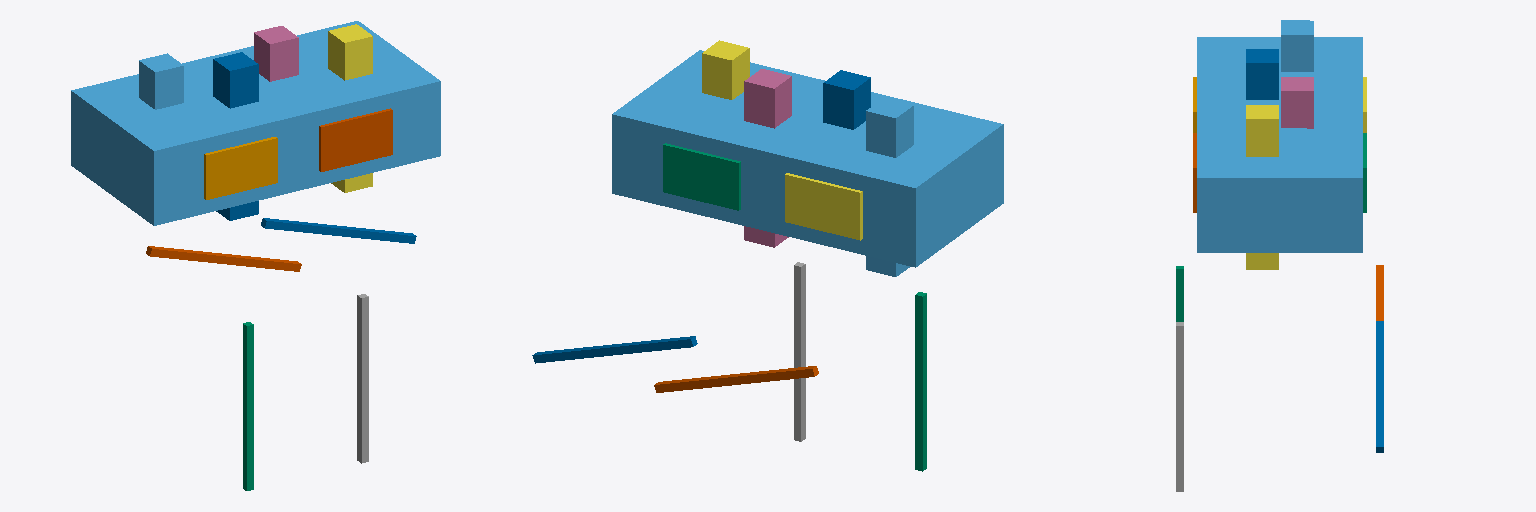
robot.urdf — robot:
<?xml version="1.0"?>
<robot xmlns:xacro="http://www.ros.org/wiki/xacro" name="robot">
<link name="world"/>

  <joint name="fixed" type="fixed">
    <parent link="world"/>
    <child link="base_link"/>
  </joint>
  <link name="base_link">
    <visual>
      <geometry>
        <box size="0.254 0.127 0.0635"/>
      </geometry>
    </visual>
    <!-- <inertial>
      <origin xyz="0.000 0.000 0.000" rpy ="0.000 0.000 0.000"/>
      <mass value="2.000"/>
      <inertia
        ixx="0.03562" ixy="0.00000" ixz="0.00000"
        iyy="0.04262" iyz="0.00000"
        izz="0.04508"/>
    </inertial> -->
    <!-- <collision>
      <origin xyz="0.000 0.000 0.015" rpy ="0.000 0.000 0.000"/>
      <geometry>
        <box size="0.127 0.254 0.0635"/>
      </geometry>
    </collision> -->
  </link>

  <!-- <link name="lidar_link">
    <visual>
      <geometry>
        <box size="0.080 0.060 0.050"/>
      </geometry>
    </visual>
    <inertial>
      <origin xyz="0.000 0.000 0.000" rpy ="0.000 0.000 0.000"/>
      <mass value="0.050"/>
      <inertia
        ixx="0.00092" ixy="0.00000" ixz="0.00001"
        iyy="0.00094" iyz="0.00000"
        izz="0.00093"/>
    </inertial>
    <collision>
      <origin xyz="0.010 0.000 -0.015" rpy ="0.000 0.000 0.000"/>
      <geometry>
        <box size="0.080 0.060 0.050"/>
      </geometry>
    </collision>
  </link> -->

<!-- FL -->
  <joint name="hip_fl" type="revolute">
  <limit upper="0.4" effort="100" velocity="10" lower="-0.2"/>
  <origin xyz ="0.0508 0.0508 0" rpy="0 0 0"/>
    <parent link="base_link"/>
    <child link = "hipbone_fl"/>
  </joint>

  <link name="hipbone_fl">
    <visual>
    <origin xyz=" 0.0 0.0 0" rpy = "0 0 0"/>

      <geometry>  

        <box size = "0.0635 0.03175 0.0381"/>
      </geometry>
    </visual>
  </link>

  <joint name="shoulder_fl" type="revolute">
          <limit upper="0.5" effort="100" velocity="10" lower="-0.1"/>

  <origin xyz="0 0 0" rpy = "0 0 0"/>
  <axis xyz="0 1 0"/>
  <parent link="hipbone_fl"/>
  <child link="femur_fl"/>
  </joint>

  <link name="femur_fl">
  <visual>
      <origin xyz=" 0.0254 -0.064 0" rpy="0 0 0"/>
    <geometry>  
      <box size = "0.0254 0.0254 0.127"/>
    </geometry>
  </visual>
  </link>

  <joint name="knee_fl" type="revolute">
    <limit upper="-0.5" effort="100" velocity="10" lower="-2"/>

    <origin xyz="0 0 -0.127" rpy = "0 0 1.57"/>
    <parent link="femur_fl"/>
    <child link="tibia_fl"/>
  </joint>

  <link name="tibia_fl">
    <visual>
    <origin xyz="0.0254 0.0 -0.06985" rpy="0 0 0"/>
      <geometry>
        <box size = "0.00635 0.00635 0.1397"/>
      </geometry>
    </visual>
  </link>


<!-- FR -->
  <joint name="hip_fr" type="revolute">
        <limit upper="0.4" effort="100" velocity="10" lower="-0.2"/>

  <origin xyz ="0.0508 -0.0508 0" rpy="0 0 3.14"/>
    <parent link="base_link"/>
    <child link = "hipbone_fr"/>
  </joint>

  <link name="hipbone_fr">
    <visual>
    <origin xyz=" 0.0 0.0 0" rpy = "0 0 0"/>

      <geometry>  

        <box size = "0.0635 0.03175 0.0381"/>
      </geometry>
    </visual>
  </link>

  <joint name="shoulder_fr" type="revolute">
            <limit upper="0.1" effort="100" velocity="10" lower="-0.5"/>

  <origin xyz="0 0 0" rpy = "0 0 0"/>
  <axis xyz="0 1 0"/>
  <parent link="hipbone_fr"/>
  <child link="femur_fr"/>
  </joint>

  <link name="femur_fr">
  <visual>
      <origin xyz=" 0.0254 -0.064 0" rpy="0 0 0"/>
    <geometry>  
      <box size = "0.0254 0.0254 0.127"/>
    </geometry>
  </visual>
  </link>

  <joint name="knee_fr" type="revolute">
      <limit upper="2" effort="100" velocity="10" lower="-0.5"/>

    <origin xyz="0 0 -0.127" rpy = "0 0 1.57"/>
    <parent link="femur_fr"/>
    <child link="tibia_fr"/>
  </joint>

  <link name="tibia_fr">
    <visual>
    <origin xyz="0.0254 0.0 -0.06985" rpy="0 0 0"/>
      <geometry>
        <box size = "0.00635 0.00635 0.1397"/>
      </geometry>
    </visual>
  </link>

<!-- BR -->
  <joint name="hip_br" type="revolute">
      <limit upper="0.4" effort="100" velocity="10" lower="-0.2"/>

  <origin xyz ="-0.0508 -0.0508 0" rpy="0 0 3.14"/>
    <parent link="base_link"/>
    <child link = "hipbone_br"/>
  </joint>

  <link name="hipbone_br">
    <visual>
    <origin xyz=" 0.0 0.0 0" rpy = "0 0 0"/>

      <geometry>  

        <box size = "0.0635 0.03175 0.0381"/>
      </geometry>
    </visual>
  </link>

  <joint name="shoulder_br" type="revolute">
            <limit upper="0.1" effort="100" velocity="10" lower="-0.5"/>

  <origin xyz="0 0 0" rpy = "0 0 0"/>
  <axis xyz="0 1 0"/>
  <parent link="hipbone_br"/>
  <child link="femur_br"/>
  </joint>

  <link name="femur_br">
  <visual>
      <origin xyz=" 0.0254 -0.064 0" rpy="0 0 0"/>
    <geometry>  
      <box size = "0.0254 0.0254 0.127"/>
    </geometry>
  </visual>
  </link>

  <joint name="knee_br" type="revolute">
      <limit upper="2" effort="100" velocity="10" lower="-0.5"/>

    <origin xyz="0 0 -0.127" rpy = "0 0 1.57"/>
    <parent link="femur_br"/>
    <child link="tibia_br"/>
  </joint>

  <link name="tibia_br">
    <visual>
    <origin xyz="0.0254 0.0 -0.06985" rpy="0 0 0"/>
      <geometry>
        <box size = "0.00635 0.00635 0.1397"/>
      </geometry>
    </visual>
  </link>

<!-- BL -->
  <joint name="hip_bl" type="revolute">]
    <limit upper="0.4" effort="100" velocity="10" lower="-0.2"/>

  <origin xyz ="-0.0508 0.0508 0" rpy="0 0 0"/>
    <parent link="base_link"/>
    <child link = "hipbone_bl"/>
  </joint>

  <link name="hipbone_bl">
    <visual>
    <origin xyz=" 0.0 0.0 0" rpy = "0 0 0"/>

      <geometry>  

        <box size = "0.0635 0.03175 0.0381"/>
      </geometry>
    </visual>
  </link>

  <joint name="shoulder_bl" type="revolute">
            <limit upper="0.5" effort="100" velocity="10" lower="-0.1"/>

  <origin xyz="0 0 0" rpy = "0 0 0"/>
  <axis xyz="0 1 0"/>
  <parent link="hipbone_bl"/>
  <child link="femur_bl"/>
  </joint>

  <link name="femur_bl">
  <visual>
      <origin xyz=" 0.0254 -0.064 0" rpy="0 0 0"/>
    <geometry>  
      <box size = "0.0254 0.0254 0.127"/>
    </geometry>
  </visual>
  </link>

  <joint name="knee_bl" type="revolute">
      <limit upper="-0.5" effort="100" velocity="10" lower="-2"/>

    <origin xyz="0 0 -0.127" rpy = "0 0 1.57"/>
    <parent link="femur_bl"/>
    <child link="tibia_bl"/>
  </joint>

  <link name="tibia_bl">
    <visual>
    <origin xyz="0.0254 0.0 -0.06985" rpy="0 0 0"/>
      <geometry>
        <box size = "0.00635 0.00635 0.1397"/>
      </geometry>
    </visual>
  </link>


</robot>

--- Render facts (derived) ---
The picture shows the robot from 3 angles, left to right: view 1: azimuth 30°, elevation 25°; view 2: azimuth 150°, elevation 25°; view 3: azimuth 270°, elevation 25°; orthographic projection.
Robot: robot — 14 links, 13 joints (12 revolute, 1 fixed); root link world; default pose: all joints at 0 but 2 set to mid-range because 0 is outside their limits (knee_fl = -1.25, knee_bl = -1.25).
Visible links, largest first — view 1: base_link, hipbone_fr, hipbone_br, femur_bl, femur_fl, femur_br, femur_fr, tibia_fr, tibia_br, tibia_fl, tibia_bl; view 2: base_link, hipbone_fl, hipbone_bl, femur_fr, femur_br, femur_bl, femur_fl, tibia_br, tibia_fr, tibia_bl, tibia_fl; view 3: base_link, femur_fl, femur_br, femur_fr, femur_bl, tibia_fr, tibia_fl.
Link boxes in pixels (left/top/right/bottom): base_link: left=71, top=21, right=440, bottom=225; hipbone_fr: left=319, top=108, right=392, bottom=171; hipbone_br: left=204, top=137, right=277, bottom=199; femur_bl: left=213, top=52, right=258, bottom=220; femur_fl: left=328, top=24, right=372, bottom=192; femur_br: left=139, top=53, right=183, bottom=109; femur_fr: left=254, top=26, right=298, bottom=81; tibia_fr: left=357, top=294, right=368, bottom=463; tibia_br: left=243, top=322, right=253, bottom=490; tibia_fl: left=261, top=218, right=416, bottom=243; tibia_bl: left=146, top=246, right=301, bottom=271; base_link: left=612, top=50, right=1003, bottom=267; hipbone_fl: left=663, top=143, right=740, bottom=210; hipbone_bl: left=785, top=173, right=862, bottom=240; femur_fr: left=744, top=69, right=791, bottom=247; femur_br: left=866, top=98, right=913, bottom=276; femur_bl: left=823, top=70, right=870, bottom=129; femur_fl: left=702, top=40, right=749, bottom=99; tibia_br: left=915, top=292, right=926, bottom=471; tibia_fr: left=794, top=262, right=805, bottom=441; tibia_bl: left=654, top=366, right=818, bottom=392; tibia_fl: left=532, top=336, right=697, bottom=363; base_link: left=1197, top=37, right=1362, bottom=252; femur_fl: left=1246, top=105, right=1278, bottom=269; femur_br: left=1281, top=20, right=1313, bottom=71; femur_fr: left=1281, top=77, right=1313, bottom=128; femur_bl: left=1246, top=49, right=1278, bottom=99; tibia_fr: left=1176, top=322, right=1183, bottom=491; tibia_fl: left=1376, top=321, right=1383, bottom=452.
Bounding box of the posed robot: 0.3114 × 0.1588 × 0.3302 m (x, y, z).
Geometry: primitives only (box / cylinder / sphere), no mesh files.
